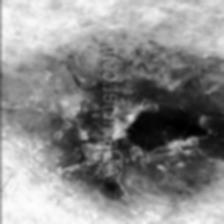Potentially Malignant Skin Tumors: (124, 102, 211, 160)
